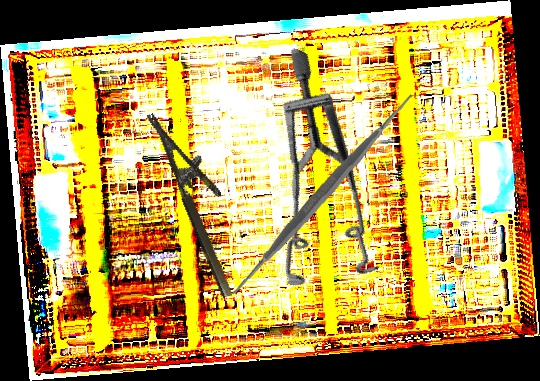Needle Holder: (146, 100, 258, 300)
Spatula Surgical: (219, 88, 427, 301)
Speculum: (200, 46, 448, 316)
